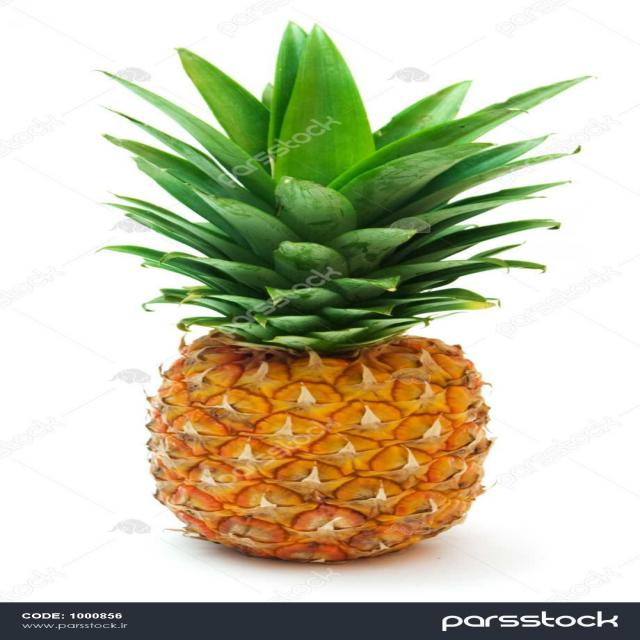pineapple: (145, 51, 492, 564)
